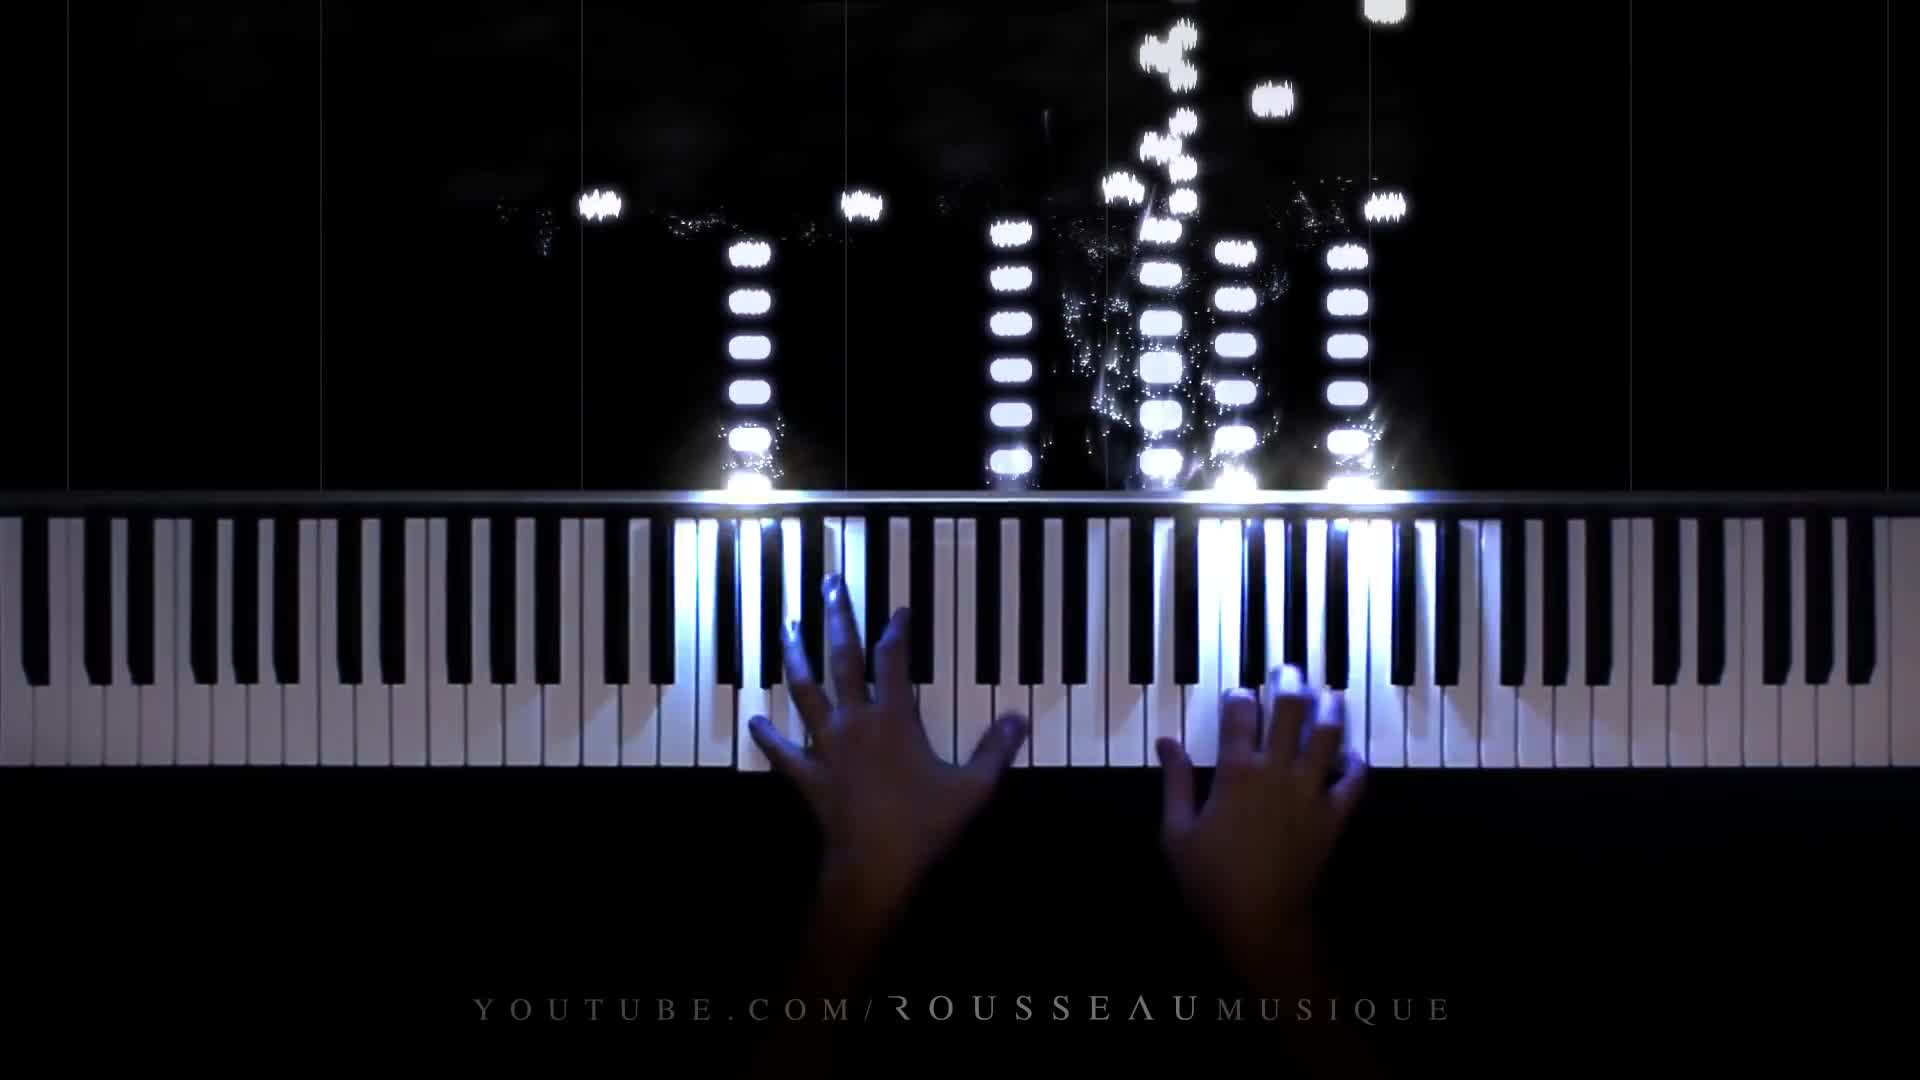left: (752, 570, 1027, 847)
right: (1156, 661, 1364, 907)
